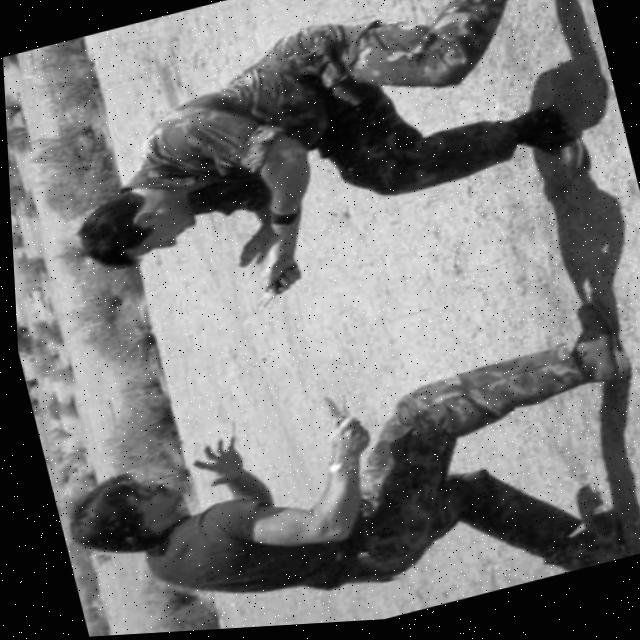knife: (220, 280, 284, 338), (296, 386, 342, 431)
